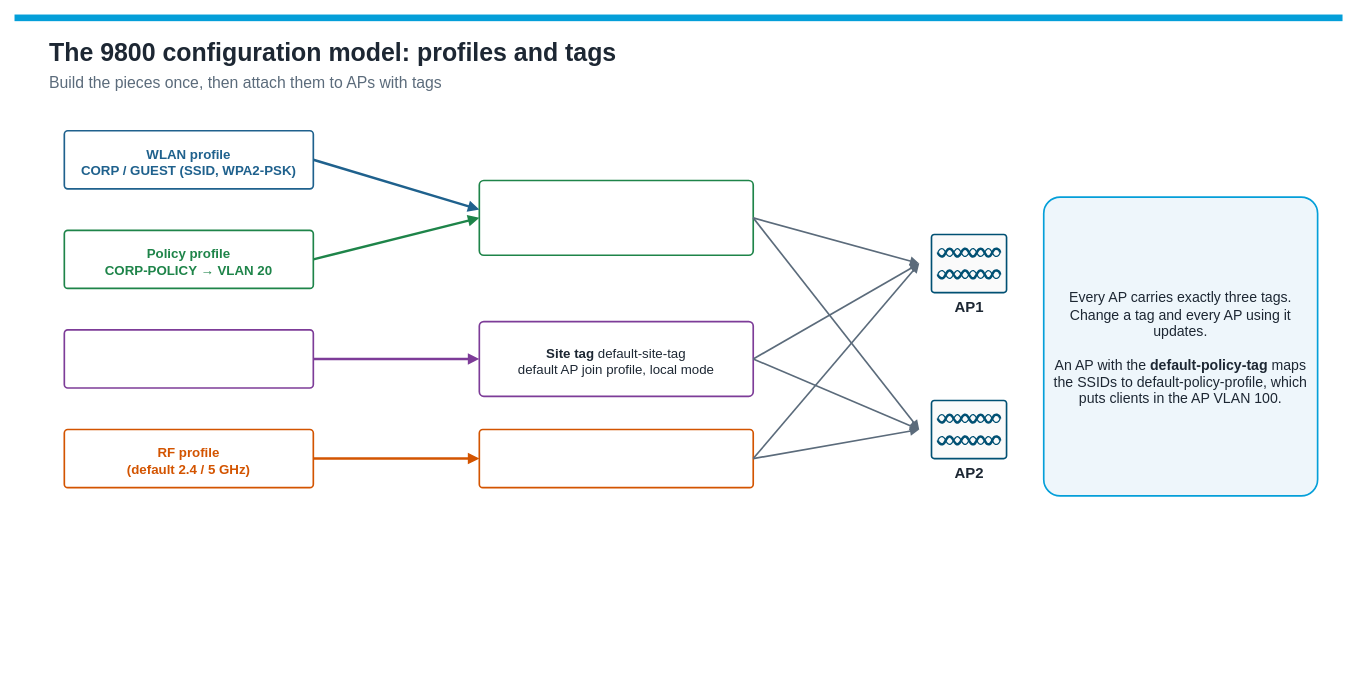
This 1356x684 diagram has some shape labels left out. Each missing label, with the centre of its shape:
"AP join profile (CAPWAP, management)" belongs at [188,358].
"Policy tag LAB-POLICY-TAG CORP + CORP-POLICY GUEST + GUEST-POLICY" belongs at [616,217].
"RF tag default-rf-tag" belongs at [616,458].
